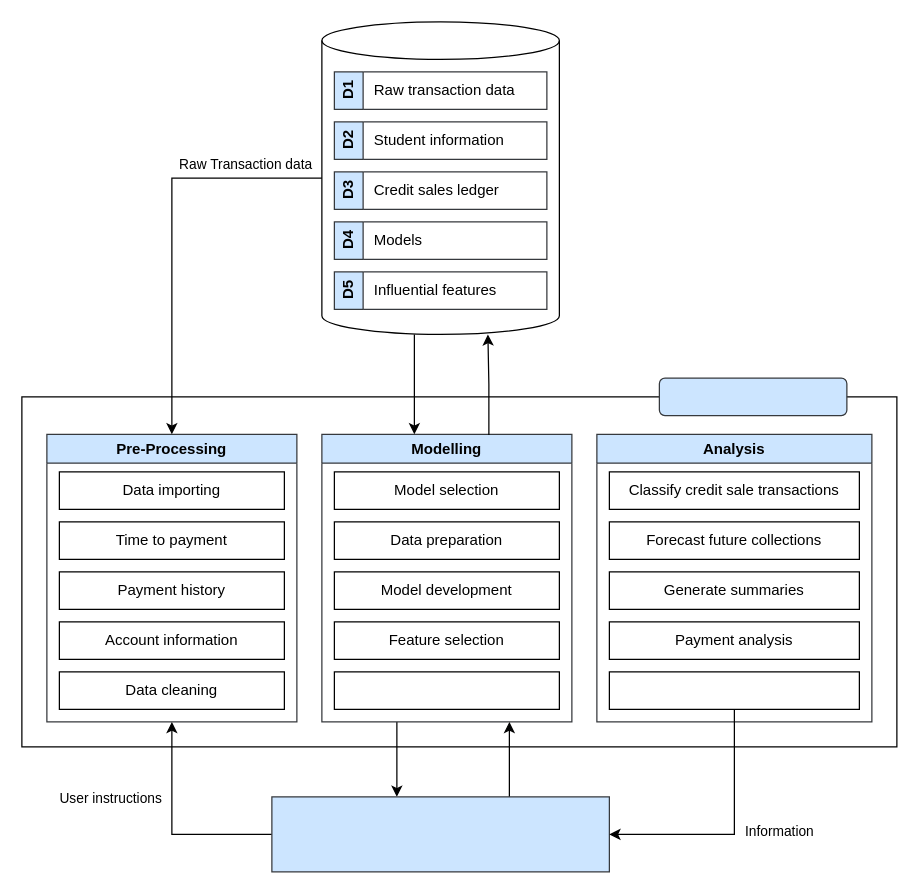
The diagram is 919 pixels wide and 894 high, and some of its shapes have lost their labels. Here are the shapes that lost their labels. From the top down, the centre of each, then its label:
(752,396): Central functional unit
(446,690): Model evaluation
(733,690): Visualization
(440,834): Graphical User Interface
